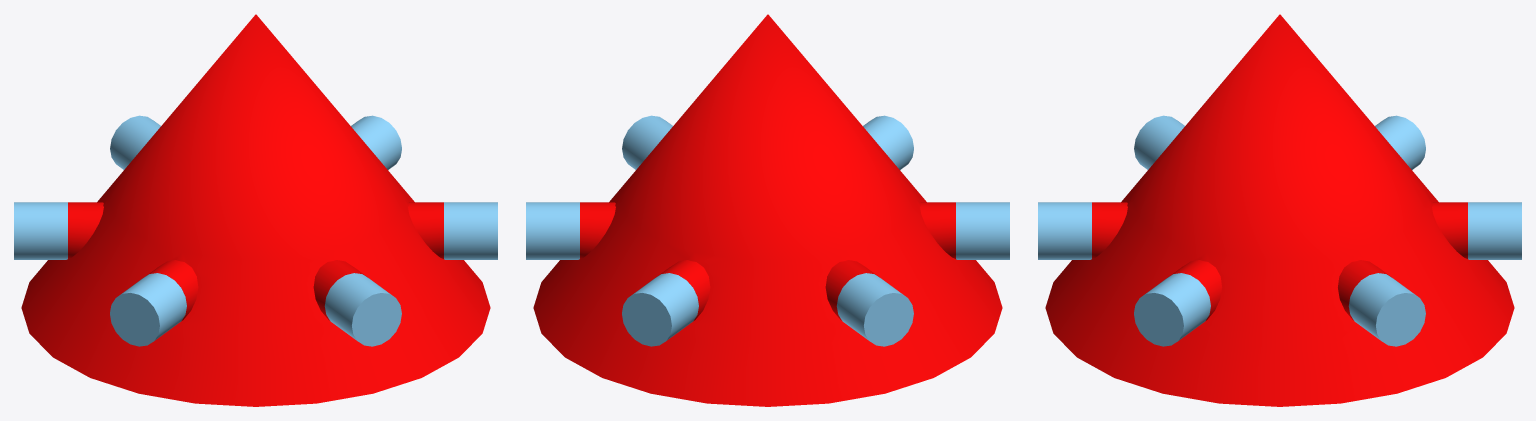
File: Holo_ferme.fbx
3 renders of one model, left to right at view 1: azimuth 30°, elevation 25°; view 2: azimuth 150°, elevation 25°; view 3: azimuth 270°, elevation 25°, orthographic.
Visible parts, largest first — view 1: Holo_ferme, Connexion (×6); view 2: Holo_ferme, Connexion (×6); view 3: Holo_ferme, Connexion (×6).
Part boxes in pixels (bbox=[...]): Holo_ferme: bbox=[21, 14, 490, 406]; Connexion (×6): bbox=[14, 115, 497, 346]; Holo_ferme: bbox=[533, 14, 1002, 406]; Connexion (×6): bbox=[526, 115, 1009, 346]; Holo_ferme: bbox=[1045, 14, 1514, 406]; Connexion (×6): bbox=[1038, 115, 1521, 346].
Bounding box in the file's own units: 756 × 522 × 780.
